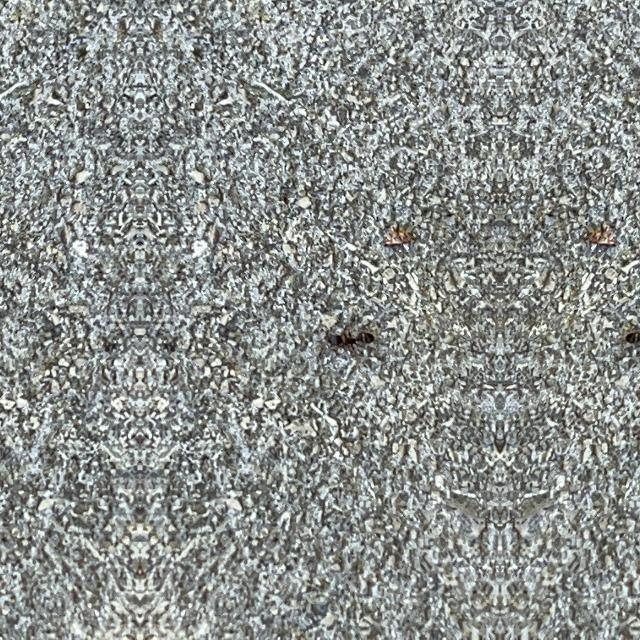Tetramorium: (329, 324, 377, 358), (622, 324, 640, 356)
